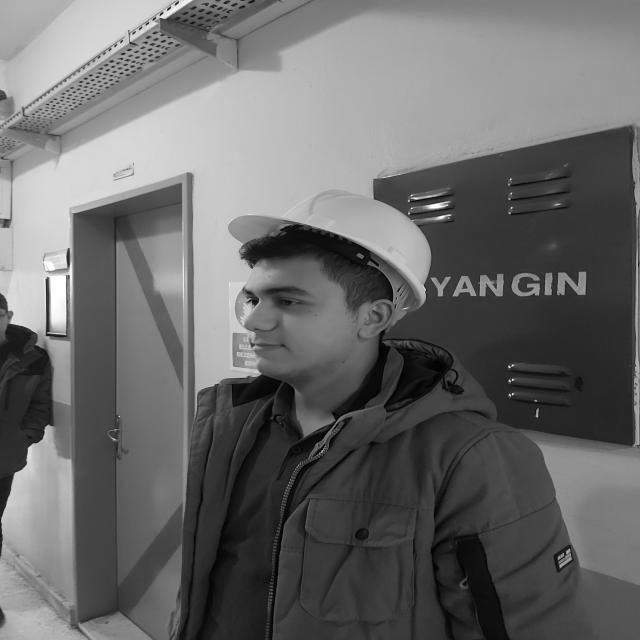construction helmet: (227, 190, 432, 319)
